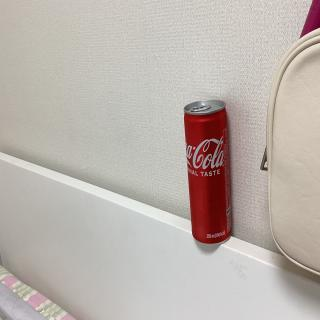cocacola: (181, 95, 237, 250)
